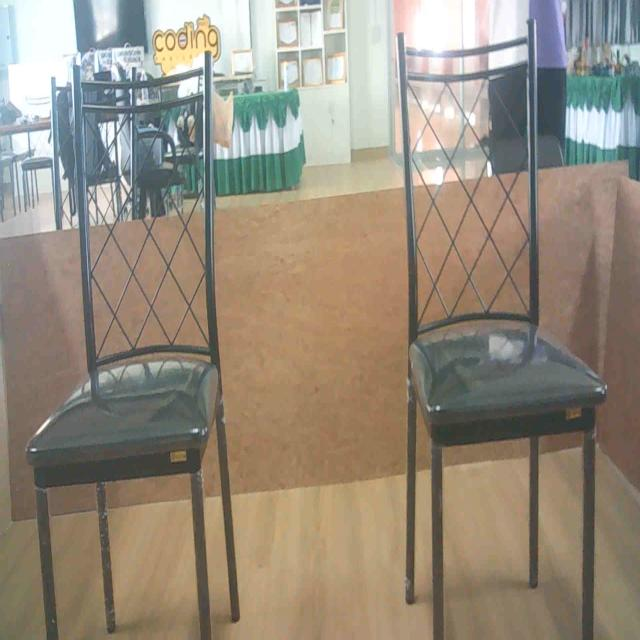empty: (370, 24, 610, 437), (22, 61, 220, 489)
